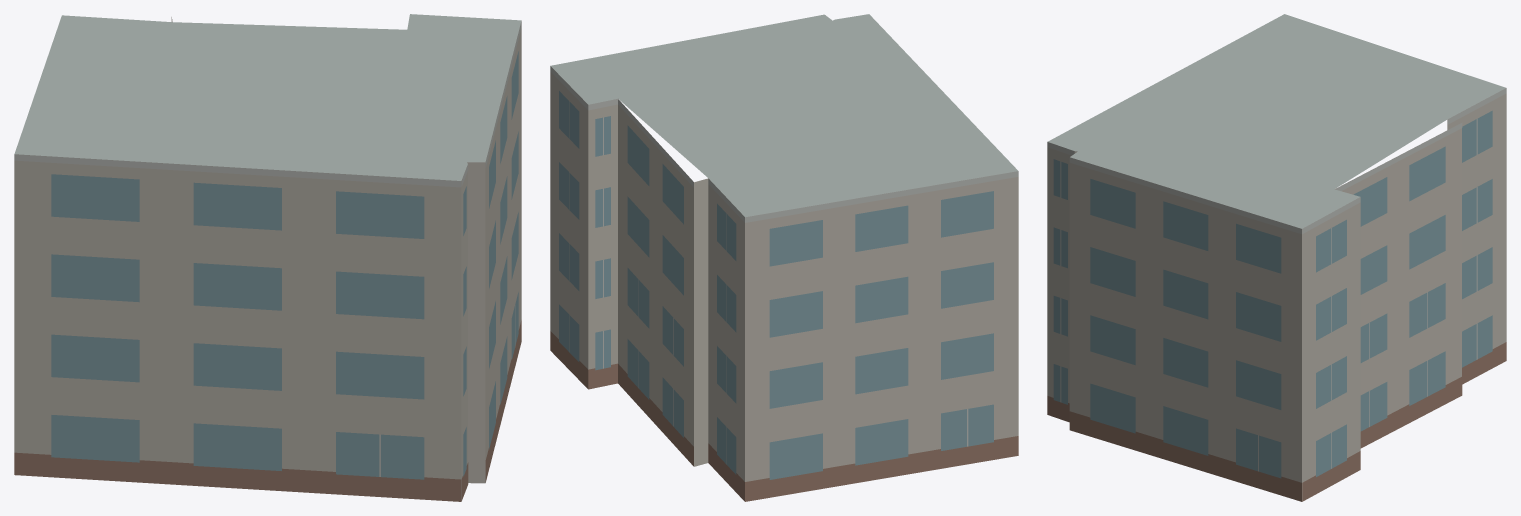
Rendered from survey-upis-32526468.glb.
The picture shows the model from 3 angles, left to right: view 1: azimuth 30°, elevation 25°; view 2: azimuth 150°, elevation 25°; view 3: azimuth 270°, elevation 25°; orthographic projection. The views are drawn at different scales.
Parts seen in each view (by area): view 1: survey-upis-32526468.tmp; view 2: survey-upis-32526468.tmp; view 3: survey-upis-32526468.tmp.
Part boxes in pixels (left/top/right/bottom): survey-upis-32526468.tmp: left=14, top=14, right=521, bottom=501; survey-upis-32526468.tmp: left=550, top=14, right=1018, bottom=501; survey-upis-32526468.tmp: left=1047, top=14, right=1506, bottom=501.
Size of the model in its own units: 20.6 by 12.2 by 18.6.
